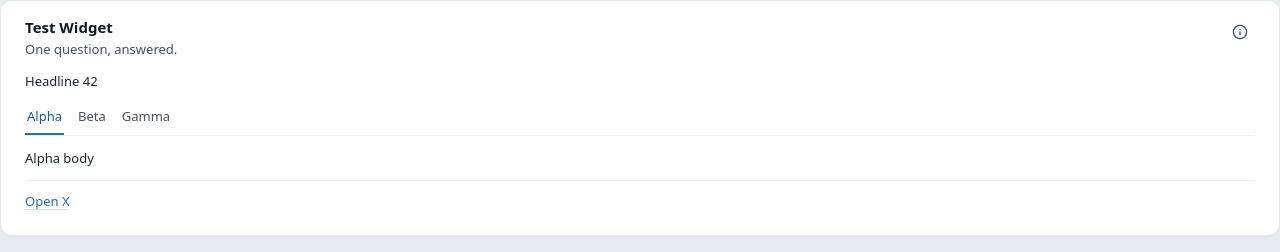
Scenario: Widget · the view switcher is the APG tabs pattern › switches on click
The image size is (1280, 252).
Click the tab "Gamma": (146, 119) [120, 104, 172, 135]
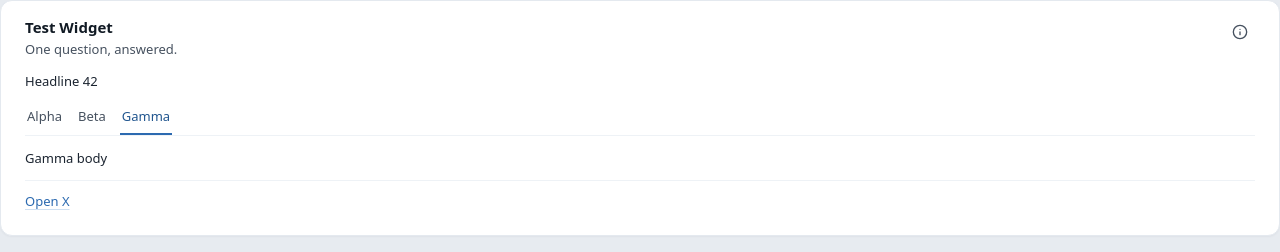
Now the text "Gamma body" is shown, box [25, 149, 107, 167]
Now the text "Alpha body" is gone
